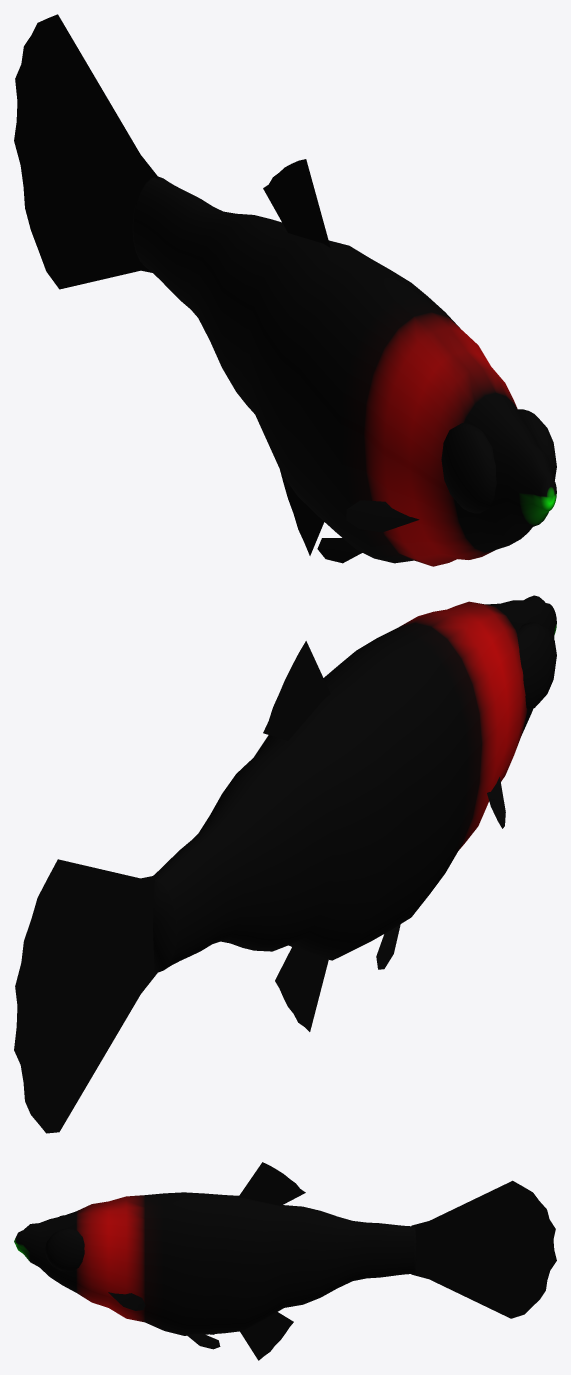
Rendered from guppy-female.glb.
3 renders of one model, top to bottom at view 1: azimuth 30°, elevation 25°; view 2: azimuth 150°, elevation 25°; view 3: azimuth 270°, elevation 25°, orthographic. The views are drawn at different scales.
Visible parts, largest first — view 1: guppyf_body, guppyf_caudal, guppyf_eyeL, guppyf_dorsal, guppyf_pectoralL, guppyf_anal, guppyf_eyeR, guppyf_pelvicL; view 2: guppyf_body, guppyf_caudal, guppyf_dorsal, guppyf_anal, guppyf_eyeL; view 3: guppyf_body, guppyf_caudal, guppyf_dorsal, guppyf_eyeR, guppyf_anal, guppyf_pectoralR, guppyf_pelvicR.
Boxes of the visible parts, x1,y1,x2,y2 form: guppyf_body: [132, 176, 556, 566]; guppyf_caudal: [14, 14, 158, 289]; guppyf_eyeL: [441, 423, 496, 513]; guppyf_dorsal: [263, 159, 330, 247]; guppyf_pectoralL: [346, 500, 419, 532]; guppyf_anal: [280, 470, 324, 555]; guppyf_eyeR: [518, 409, 556, 480]; guppyf_pelvicL: [317, 538, 362, 563]; guppyf_body: [153, 595, 556, 972]; guppyf_caudal: [14, 859, 158, 1133]; guppyf_dorsal: [263, 641, 330, 740]; guppyf_anal: [275, 946, 328, 1031]; guppyf_eyeL: [517, 622, 556, 710]; guppyf_body: [14, 1192, 416, 1335]; guppyf_caudal: [411, 1180, 556, 1318]; guppyf_dorsal: [238, 1162, 305, 1205]; guppyf_eyeR: [45, 1229, 84, 1271]; guppyf_anal: [240, 1312, 293, 1360]; guppyf_pectoralR: [108, 1292, 145, 1310]; guppyf_pelvicR: [186, 1333, 220, 1349].
Bounding box in the file's own units: 0.2266 × 0.547 × 1.35.
